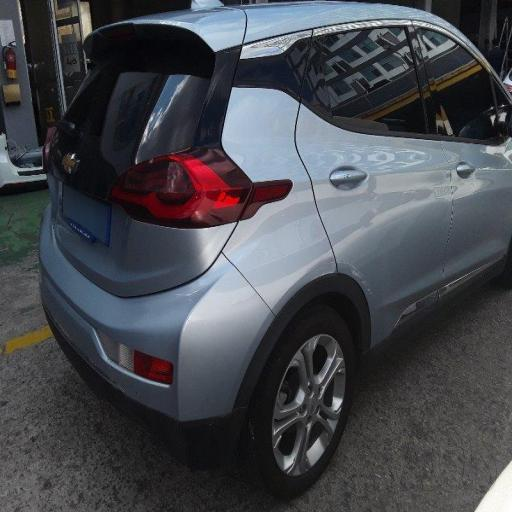scratch: (314, 224, 496, 328)
